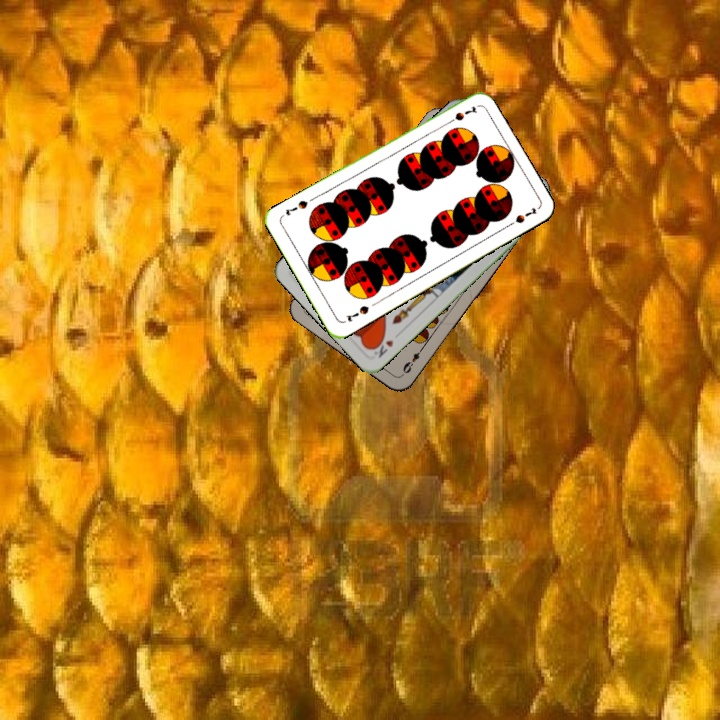E9: (398, 342, 427, 378)
HK: (374, 336, 396, 361)
S7: (442, 102, 479, 127), (342, 301, 372, 324)
